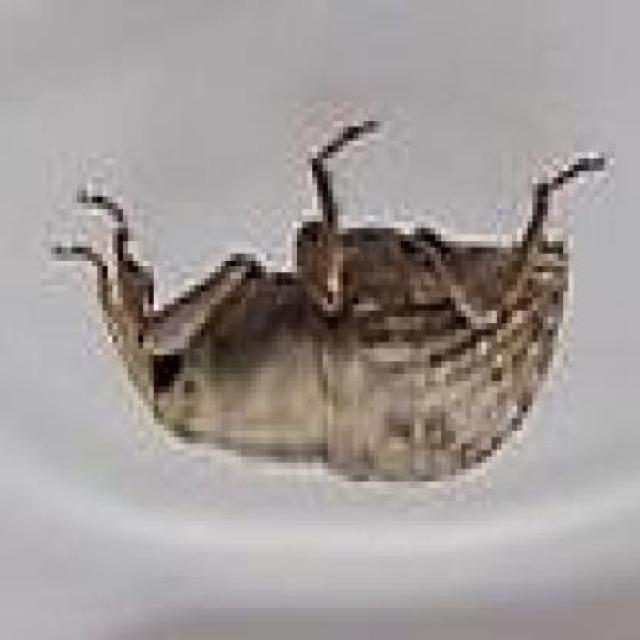rice-bug: (68, 146, 590, 488)
